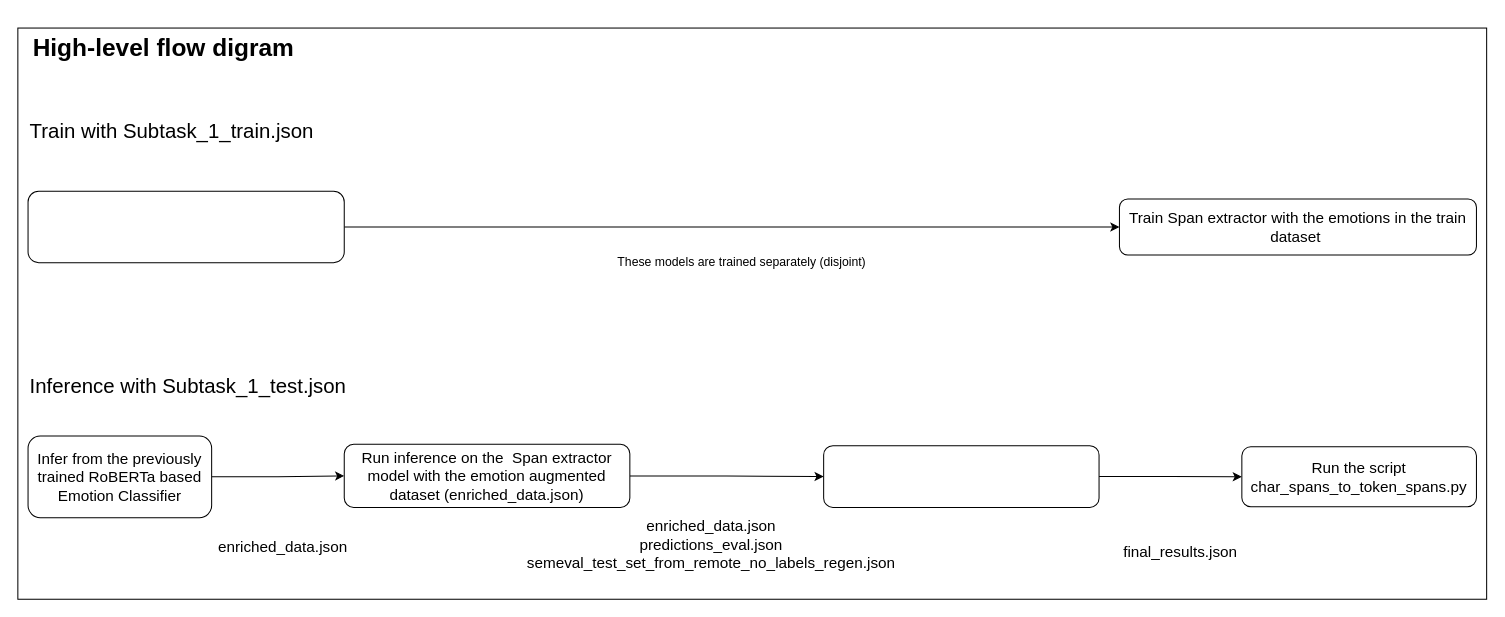
The diagram is 1505 pixels wide and 617 high, and some of its shapes have lost their labels. Each missing label, with the centre of its shape:
"Run the script process_after_span_extraction.py" goes at point (961, 476).
"Train RoBERTa based Emotion Classifier" goes at point (185, 226).
